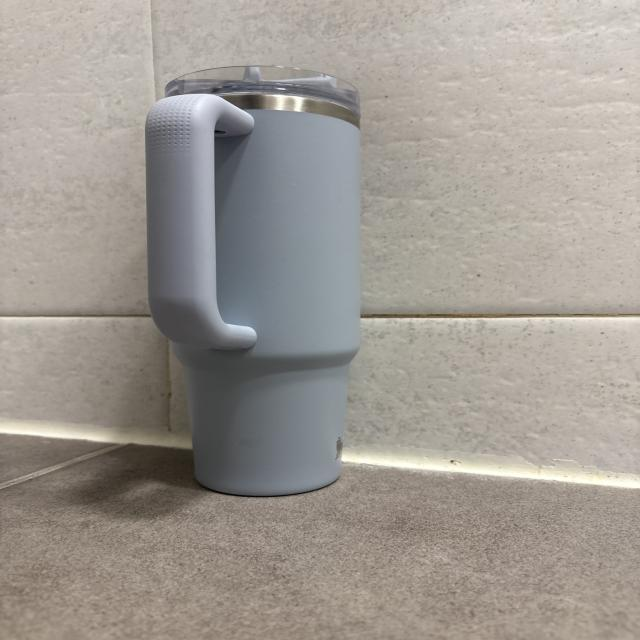waterbottle: (148, 67, 359, 496)
